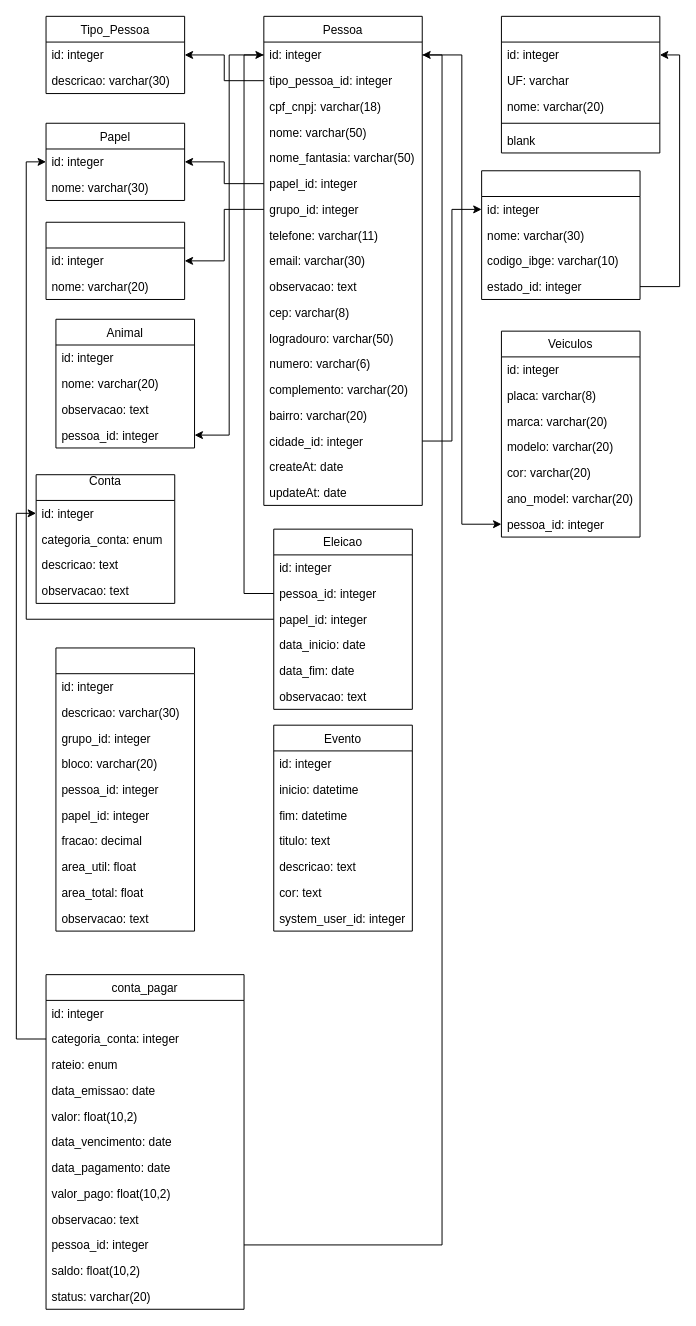
Image size: 696x1326. Some labels were removed from this diagram. Here are the shapes that lost their labels. From the top down, the box of each, then its label:
(500, 15, 660, 153): Estado
(481, 170, 640, 299): Cidade
(45, 221, 185, 299): Grupo
(55, 647, 195, 931): Unidade
